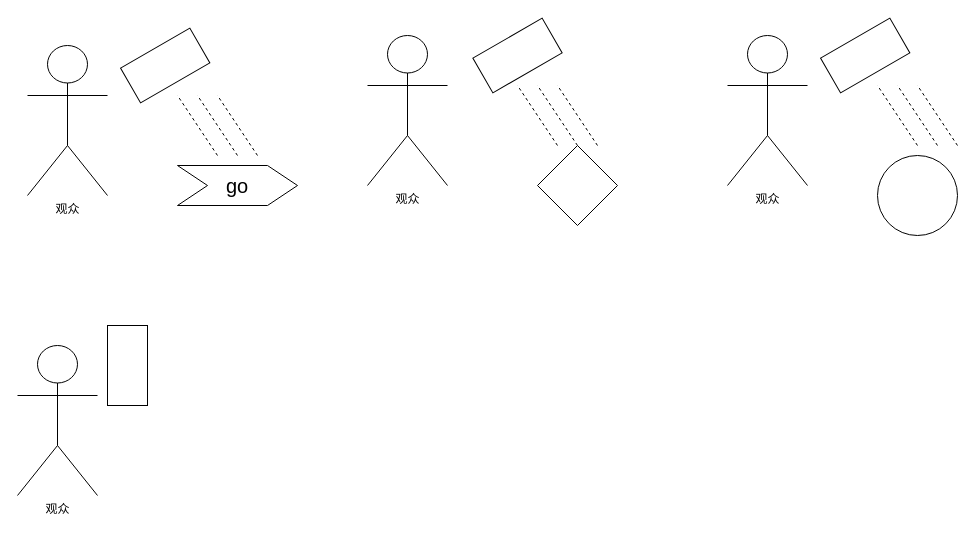
Some shapes in this 976 by 534 pixel diagram are drawn without their labels. Each missing label, with the centre of its shape:
"STOP" belongs at (x=917, y=195).
"warn" belongs at (x=577, y=185).
